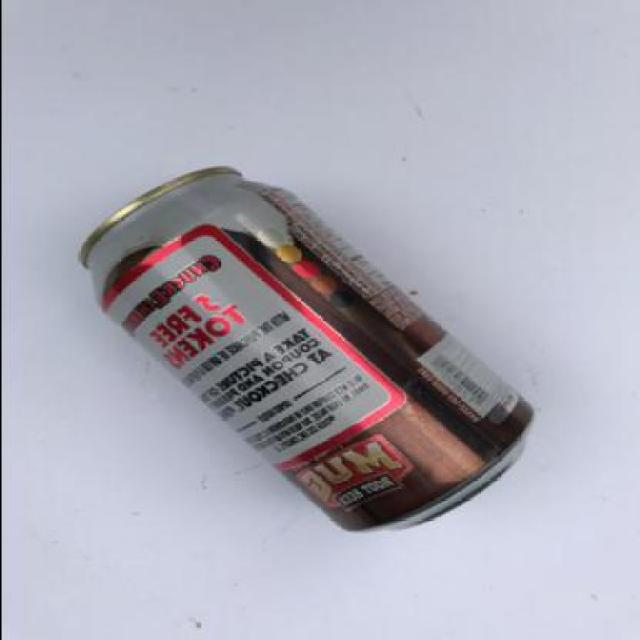METAL: (77, 167, 537, 536)
